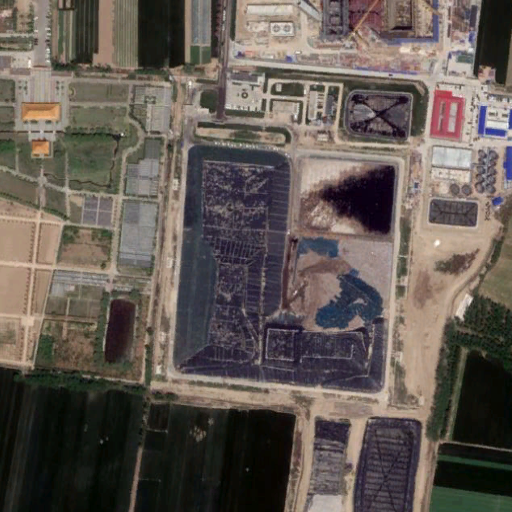lf: (172, 145, 401, 395)
